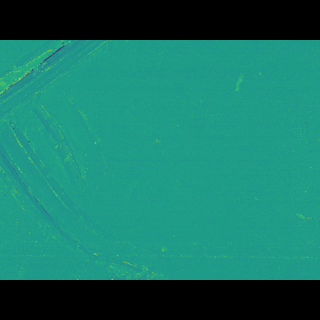Loch: (0, 68, 182, 251)
